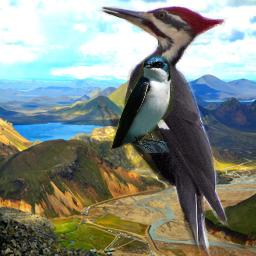Swallow: (111, 54, 174, 153)
Woodpecker: (98, 6, 229, 256)
